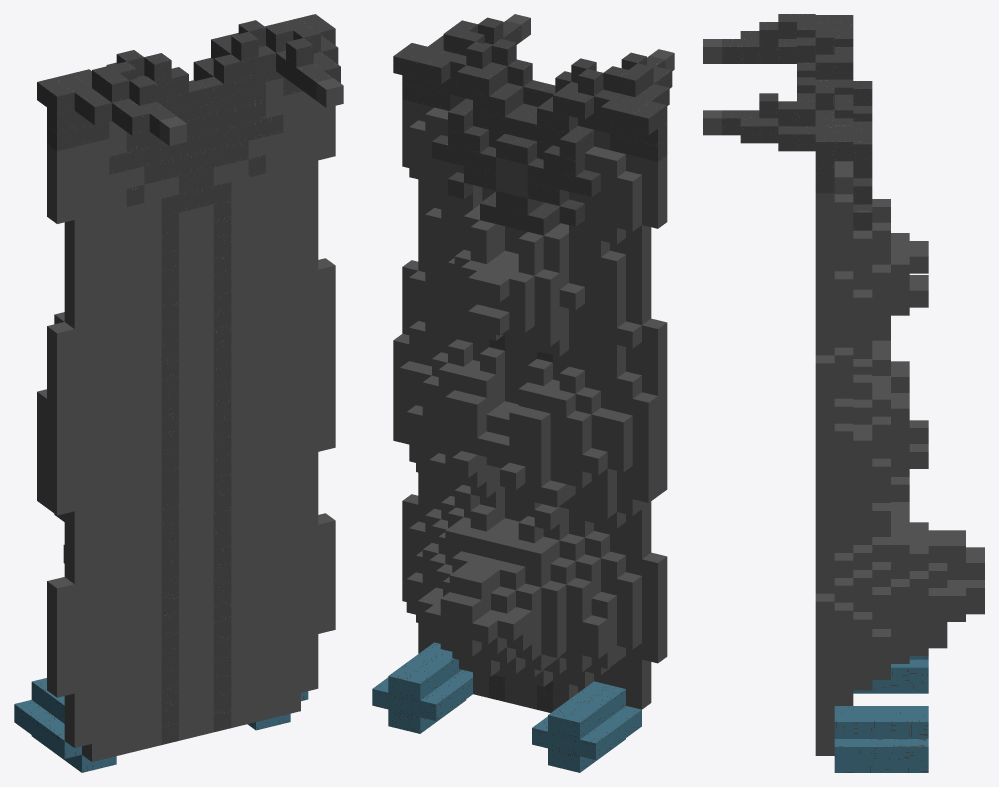
File: cape_fuwa.glb
3 views of the same model, side by side, from view 1: azimuth 30°, elevation 25°; view 2: azimuth 150°, elevation 25°; view 3: azimuth 270°, elevation 25° (orthographic). The views are drawn at different scales.
Parts seen in each view (by area): view 1: cape_fuwa; view 2: cape_fuwa; view 3: cape_fuwa.
Part boxes in pixels (x1,y1,x2,y2): cape_fuwa: (14,14,343,772); cape_fuwa: (372,14,674,772); cape_fuwa: (703,14,984,772).
Bounding box in the file's own units: 0.688 × 1.68 × 0.645.
1 material, 1 textured.
